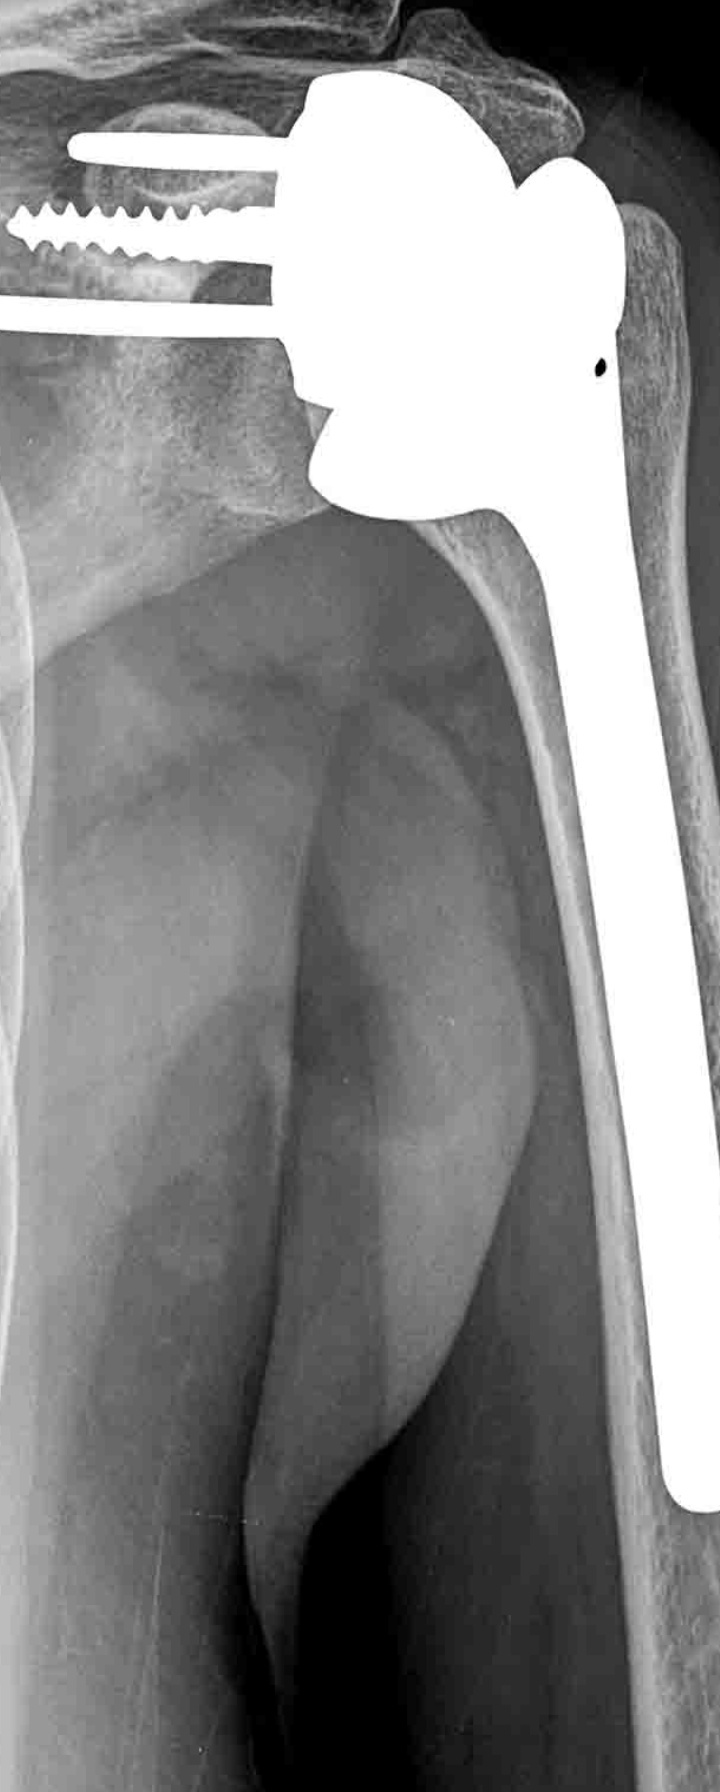Shoulder-Reverse-DJO: (1, 46, 720, 1513)
